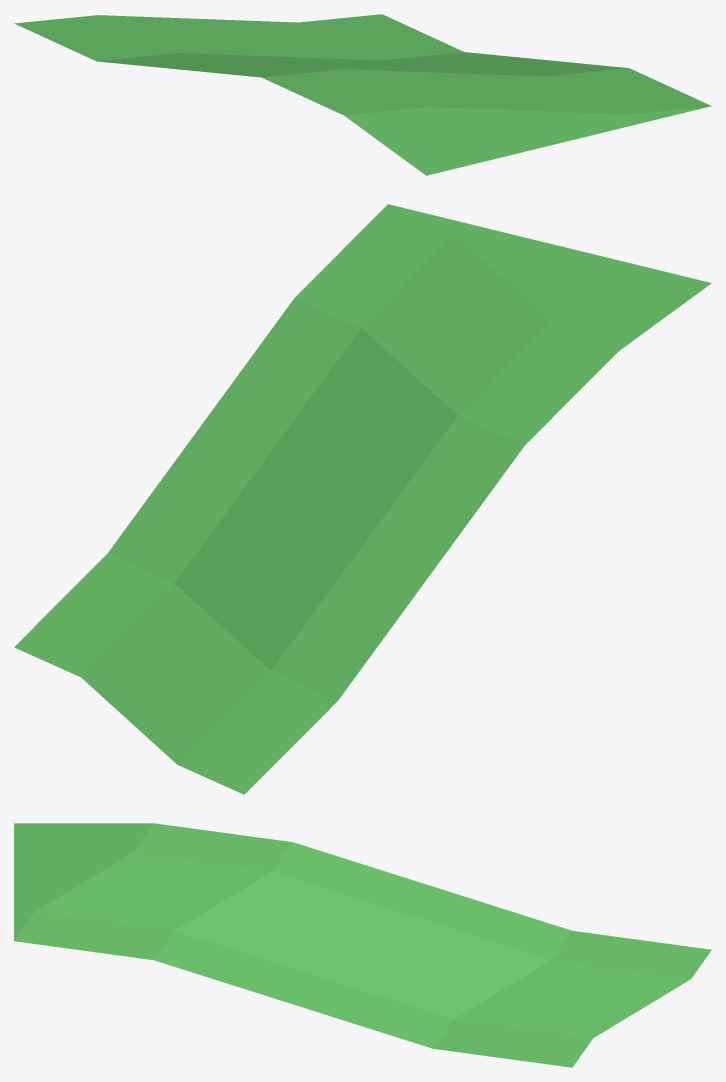
Rendered from Hilly_Terrain_Hill_Side_Shift_Gentle.glb.
3 views of the same model, one above another, from view 1: azimuth 30°, elevation 25°; view 2: azimuth 150°, elevation 25°; view 3: azimuth 270°, elevation 25° (orthographic). The views are drawn at different scales.
Visible parts, largest first — view 1: Hilly_Terrain_Hill_Side_Shift_Gentle; view 2: Hilly_Terrain_Hill_Side_Shift_Gentle; view 3: Hilly_Terrain_Hill_Side_Shift_Gentle.
Boxes of the visible parts, x1=… form: Hilly_Terrain_Hill_Side_Shift_Gentle: x1=14, y1=14, x2=711, y2=175; Hilly_Terrain_Hill_Side_Shift_Gentle: x1=14, y1=204, x2=711, y2=794; Hilly_Terrain_Hill_Side_Shift_Gentle: x1=14, y1=823, x2=711, y2=1067.
Size of the model in its own units: 2 by 1 by 5.
